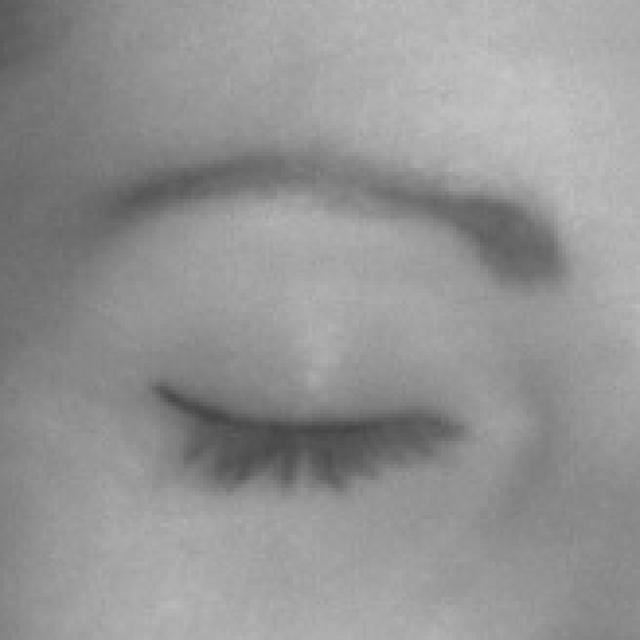close: (0, 115, 593, 594)
